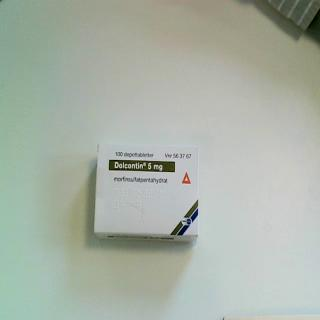dolcontin5mg: (93, 142, 202, 248)
